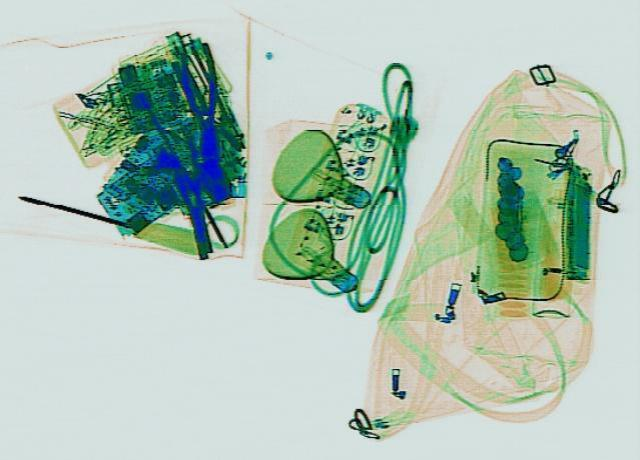Pliers: (172, 41, 230, 162)
